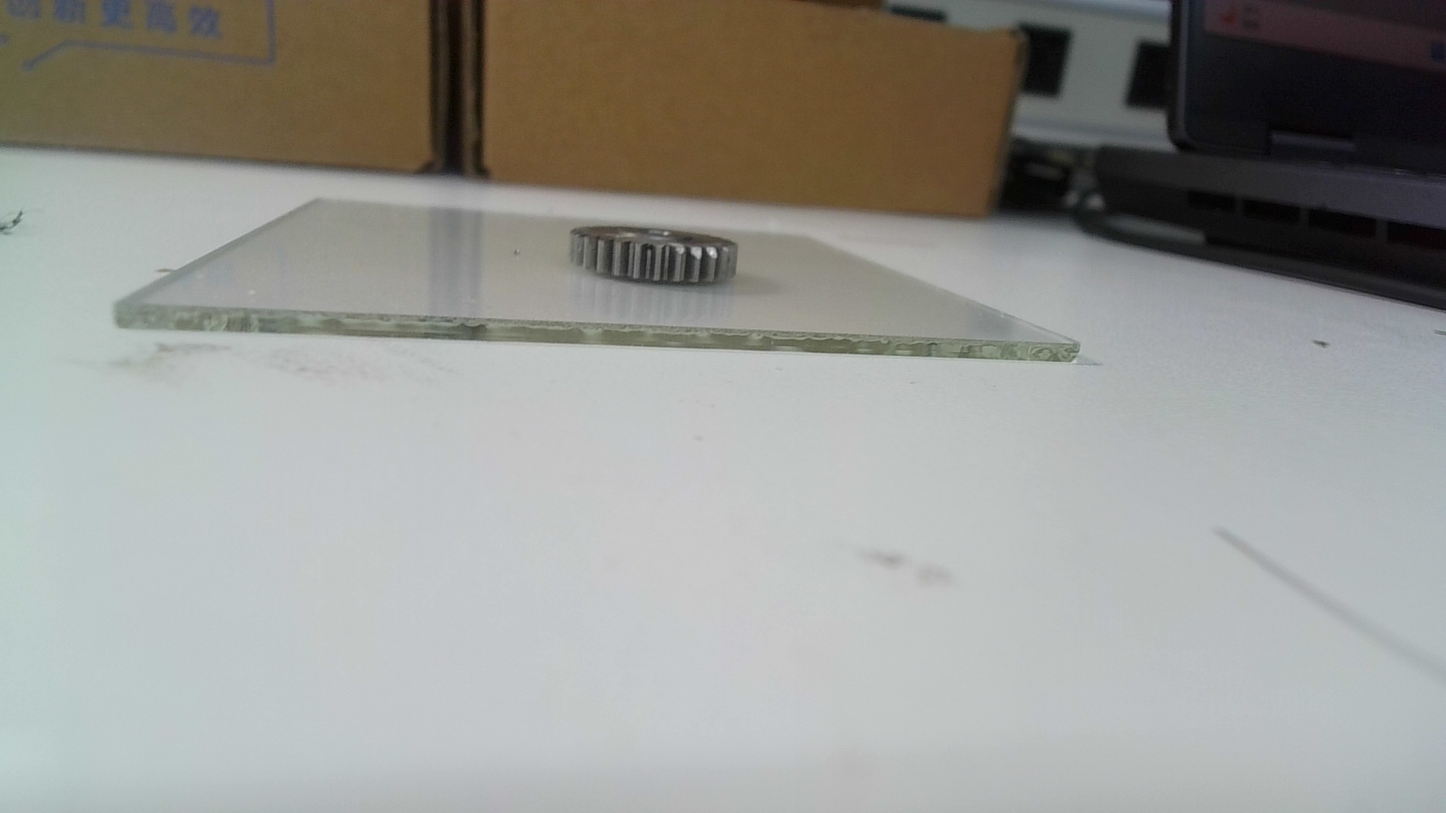gear: (569, 225, 741, 287)
